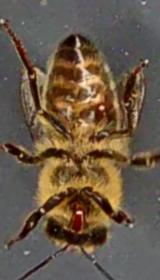varroa_mite: (88, 96, 120, 124)
